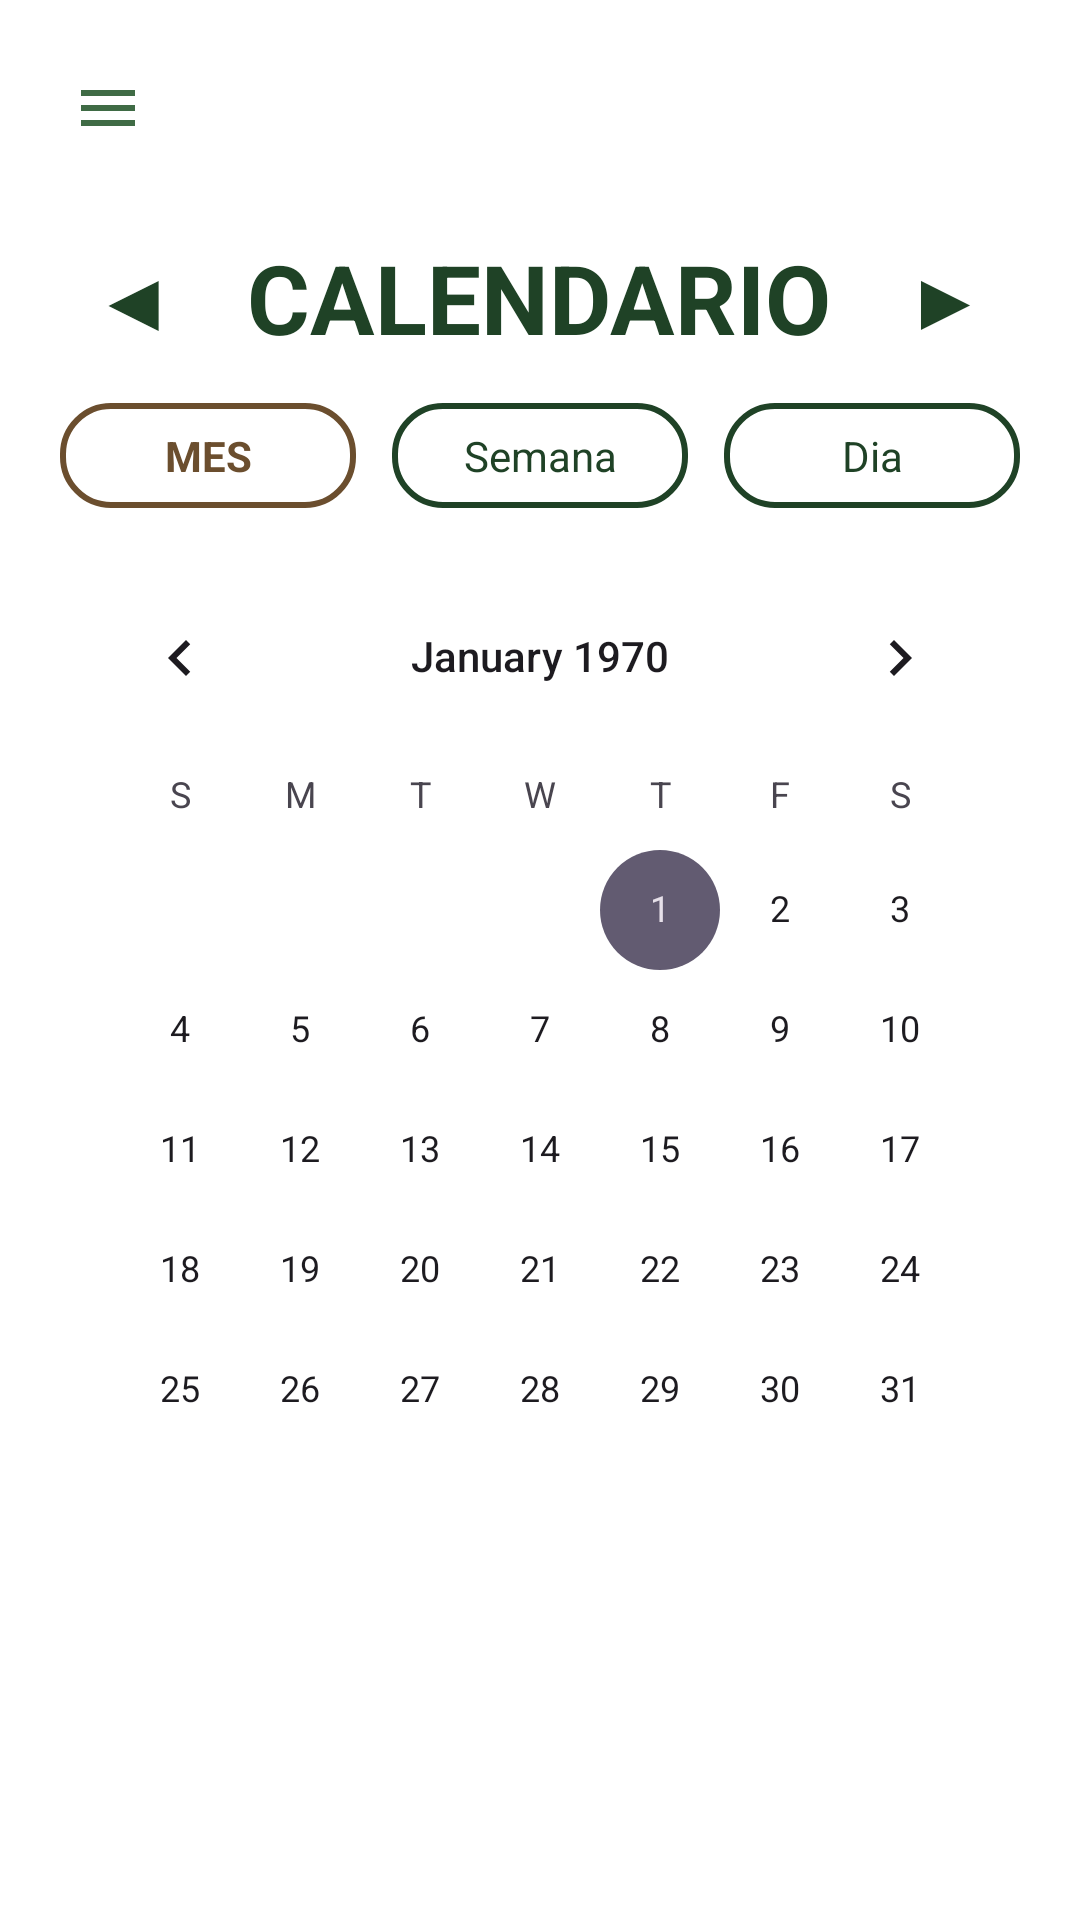

Icons on this 1080px x 1920px Android screen, each with its box as (x1, y1, x2, y2):
menu: (81, 90, 135, 126)
